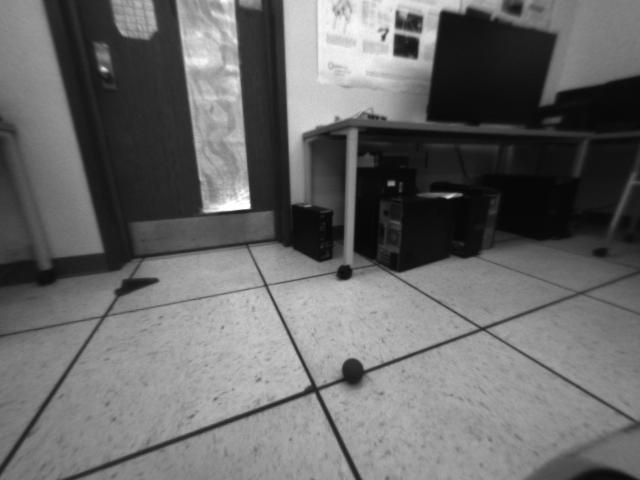dogtoy: (335, 353, 369, 388)
